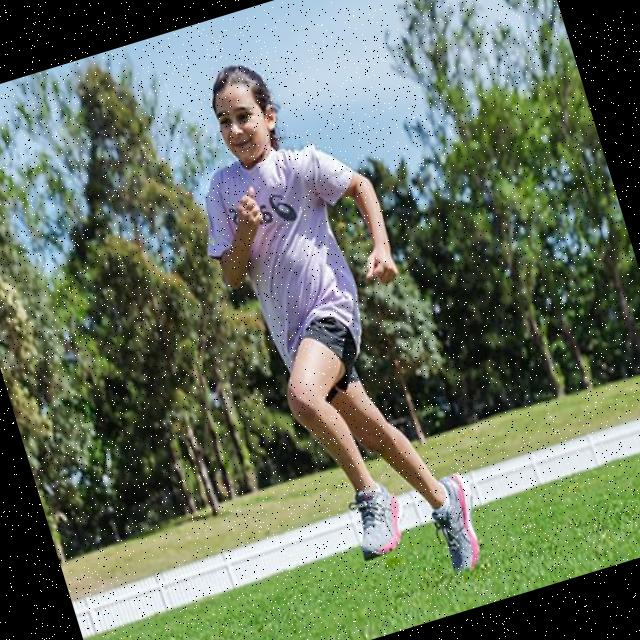Person: (156, 35, 494, 614)
